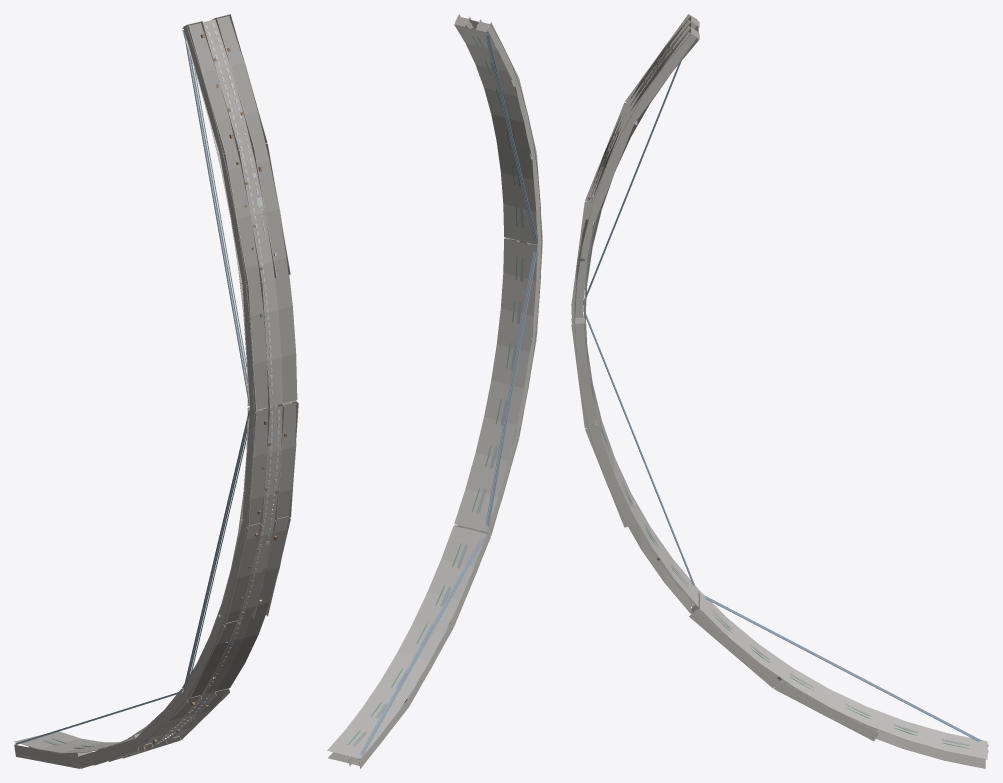
File: xuanshu_interior_C32.glb
3 views of the same model, side by side, from view 1: azimuth 30°, elevation 25°; view 2: azimuth 150°, elevation 25°; view 3: azimuth 270°, elevation 25° (orthographic). The views are drawn at different scales.
Visible parts, largest first — view 1: UNIT-ATM-005; view 2: UNIT-ATM-005; view 3: UNIT-ATM-005.
Part boxes in pixels (x1,y1,x2,y2): UNIT-ATM-005: (14,14,298,768); UNIT-ATM-005: (327,14,542,768); UNIT-ATM-005: (571,14,988,768).
Bounding box in the file's own units: 13.31 × 251 × 128.
